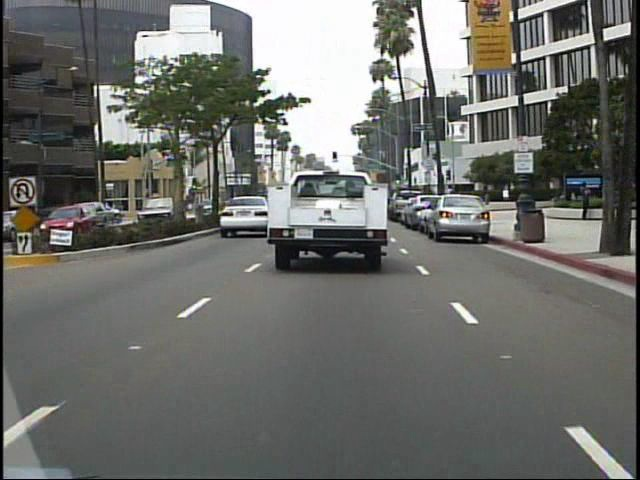person: (581, 178, 595, 225)
